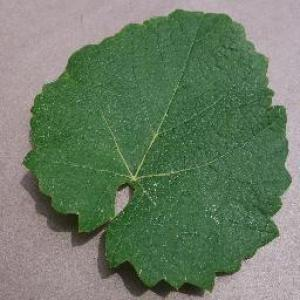Folha: (21, 8, 292, 294)
